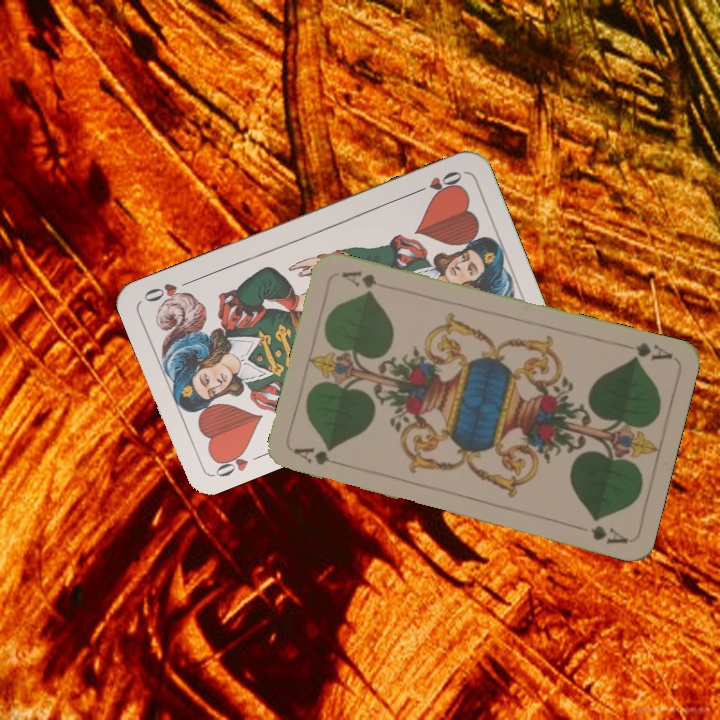GA: (627, 338, 676, 364), (290, 443, 332, 468)
HO: (210, 444, 266, 480), (409, 167, 465, 198)
